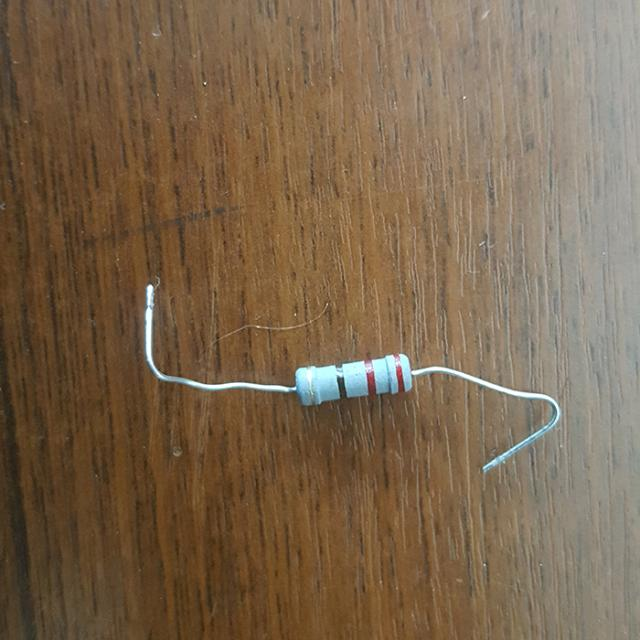brown: (337, 366, 347, 398)
gold: (307, 368, 315, 403)
red: (366, 361, 376, 393), (394, 354, 402, 391)
resistor: (290, 342, 427, 421)
